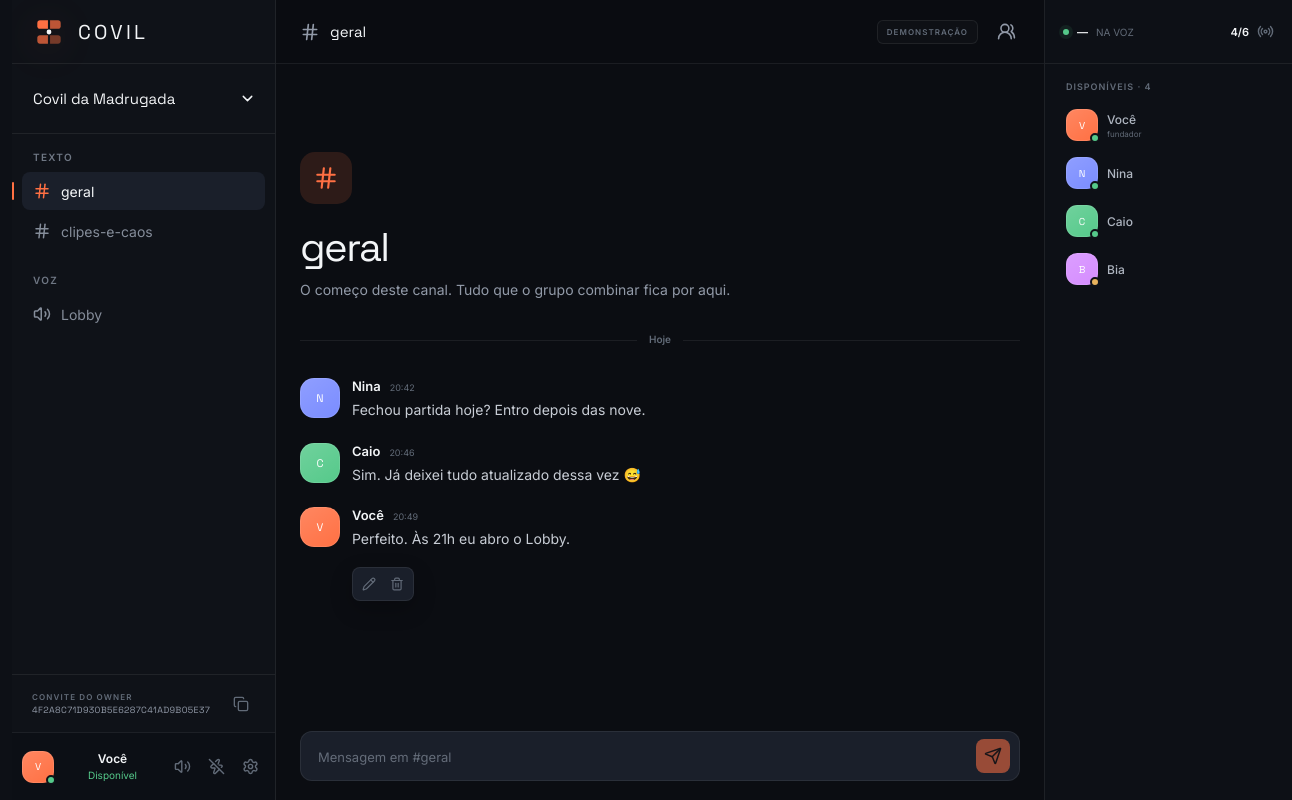
Test: App em modo de demonstração › permite navegar até a sala de voz sem pedir o microfone automaticamente
The image size is (1292, 800).
Step 1. Click the button with aria-label "Sala de voz Lobby" → (144, 314), box [22,295,265,333]
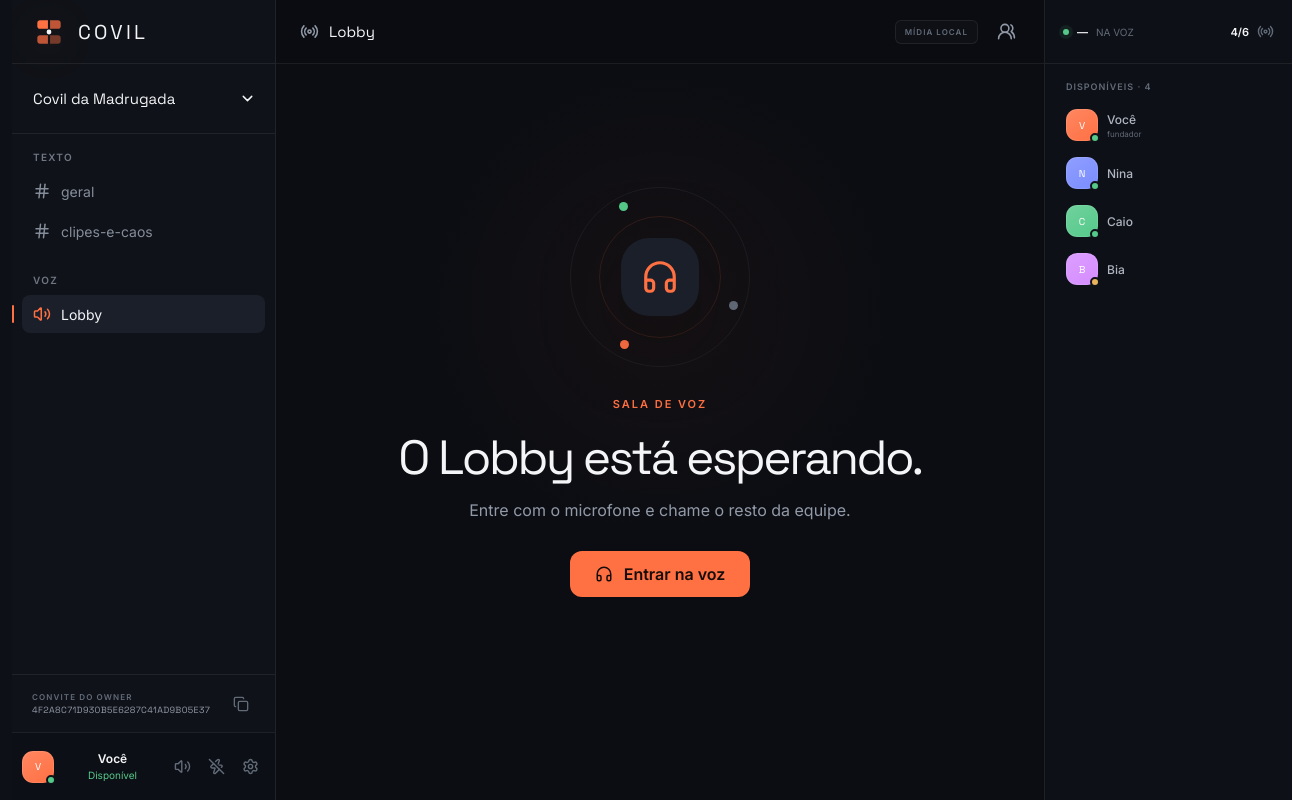
Expected: the heading "O Lobby está esperando." is shown, [398,427,922,488]
Expected: the button "Entrar na voz" is shown, [570,551,750,597]
